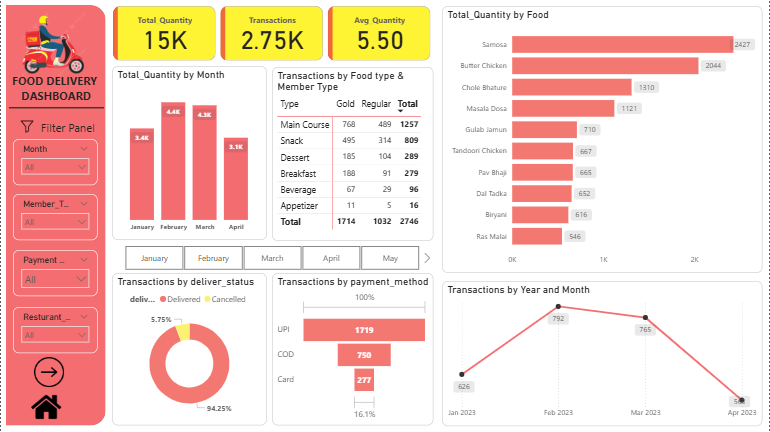

This screenshot's page, from the dashboard's own definition file:
{"tool":"powerbi","page":{"name":"Page 1","canvas":[1280,720],"ordinal":0},"visuals":[{"type":"shape","box":[8.1,8.1,166.3,701.2],"z":0},{"type":"image","box":[7.9,9,158.3,132.3],"z":1000},{"type":"textbox","box":[12.8,116.3,158.1,70.9],"z":2000},{"type":"shape","box":[13.2,165.4,158,29.3],"z":3000},{"type":"cardVisual","fields":{"Data":["Sales Data.Total_Quantity","Sales Data.Transactions","Sales Data.Avg_Quantity"]},"box":[181.4,9.3,539.5,103.5],"z":4000},{"type":"clusteredColumnChart","fields":{"Y":["Sales Data.Total_Quantity"],"Category":["Sales Data.orderDate.Variation.Date Hierarchy.Month"]},"box":[184.9,110.5,258.1,289.5],"z":5000},{"type":"pivotTable","title":"Transactions by Food type & Member Type","fields":{"Rows":["Food_Details.Type"],"Columns":["Customer Details.member_Type"],"Values":["Sales Data.Transactions"]},"box":[451.5,111.1,269,289.5],"z":6000},{"type":"donutChart","fields":{"Category":["Sales Data.deliver_status"],"Y":["Sales Data.Transactions"]},"box":[185.2,455.6,258,253.9],"z":7000},{"type":"funnel","fields":{"Category":["Sales Data.payment_method"],"Y":["Sales Data.Transactions"]},"box":[451.5,455.6,269,253.9],"z":8000},{"type":"clusteredBarChart","fields":{"Y":["Sales Data.Total_Quantity"],"Category":["Food_Details.Food"]},"box":[734.9,9.3,533.7,445.4],"z":9000},{"type":"lineChart","fields":{"Y":["Sales Data.Transactions"],"Category":["Sales Data.orderDate.Variation.Date Hierarchy.Year","Sales Data.orderDate.Variation.Date Hierarchy.Month"]},"box":[735.5,467.9,533.8,241.5],"z":10000},{"type":"slicer","fields":{"Values":["Sales Data.orderDate.Variation.Date Hierarchy.Month"]},"box":[20.6,231.9,141.3,76.8],"z":11000},{"type":"slicer","fields":{"Values":["Customer Details.member_Type"]},"box":[20.6,323.8,141.3,76.8],"z":12000},{"type":"slicer","fields":{"Values":["Sales Data.payment_method"]},"box":[20.6,417.2,141.3,76.8],"z":13000},{"type":"slicer","fields":{"Values":["Resturant_Details.Resturant_type"]},"box":[20.6,511.8,141.3,76.8],"z":14000},{"type":"slicer","fields":{"Values":["Sales Data.orderDate.Variation.Date Hierarchy.Month"]},"box":[180.9,402.5,539.3,53.1],"z":15000},{"type":"image","box":[24.7,194.9,37,31.6],"z":16000},{"type":"textbox","box":[61.7,194.9,123.5,37],"z":17000},{"type":"image","box":[43.9,649.1,64.5,60.4],"z":18000},{"type":"image","box":[46.7,587.3,67.2,67.2],"z":19000}]}

Visuals, with their boxes in screenshot pixels (x1, y1, x2, y2), scaled from the page's 1280x720 canvas onto the 770x432 screenshot:
shape: BBox(5, 5, 105, 426)
image: BBox(5, 5, 100, 85)
textbox: BBox(8, 70, 103, 112)
shape: BBox(8, 99, 103, 117)
cardVisual - Sales Data.Total_Quantity x Sales Data.Transactions: BBox(109, 6, 434, 68)
clusteredColumnChart - Sales Data.Total_Quantity x Sales Data.orderDate.Variation.Date Hierarchy.Month: BBox(111, 66, 266, 240)
"Transactions by Food type & Member Type" pivotTable: BBox(272, 67, 433, 240)
donutChart - Sales Data.deliver_status x Sales Data.Transactions: BBox(111, 273, 267, 426)
funnel - Sales Data.payment_method x Sales Data.Transactions: BBox(272, 273, 433, 426)
clusteredBarChart - Sales Data.Total_Quantity x Food_Details.Food: BBox(442, 6, 763, 273)
lineChart - Sales Data.Transactions x Sales Data.orderDate.Variation.Date Hierarchy.Year: BBox(442, 281, 764, 426)
slicer - Sales Data.orderDate.Variation.Date Hierarchy.Month: BBox(12, 139, 97, 185)
slicer - Customer Details.member_Type: BBox(12, 194, 97, 240)
slicer - Sales Data.payment_method: BBox(12, 250, 97, 296)
slicer - Resturant_Details.Resturant_type: BBox(12, 307, 97, 353)
slicer - Sales Data.orderDate.Variation.Date Hierarchy.Month: BBox(109, 242, 433, 273)
image: BBox(15, 117, 37, 136)
textbox: BBox(37, 117, 111, 139)
image: BBox(26, 389, 65, 426)
image: BBox(28, 352, 69, 393)
